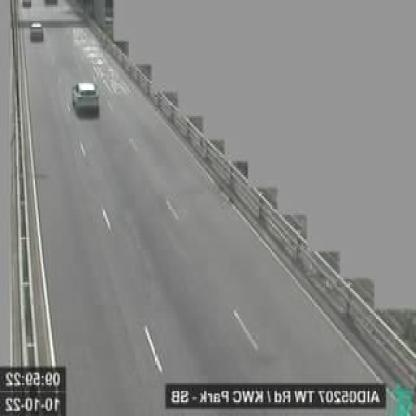Car: (72, 80, 100, 115), (30, 21, 45, 41), (22, 0, 32, 8)
